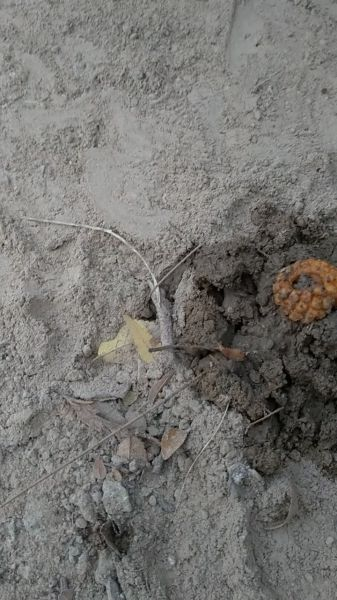eggs: (265, 256, 337, 325)
